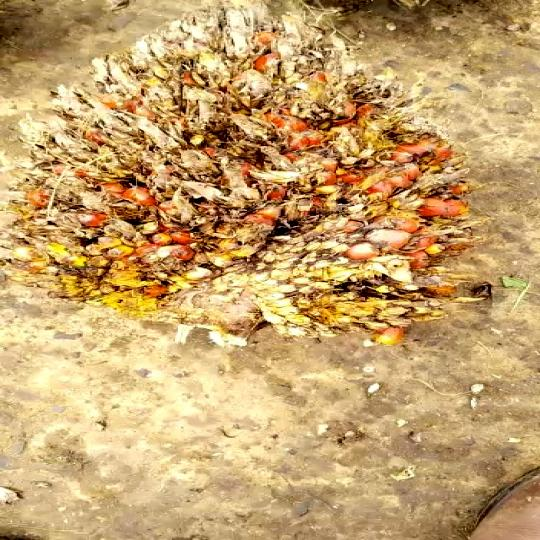terlalu masak: (0, 0, 491, 353)
